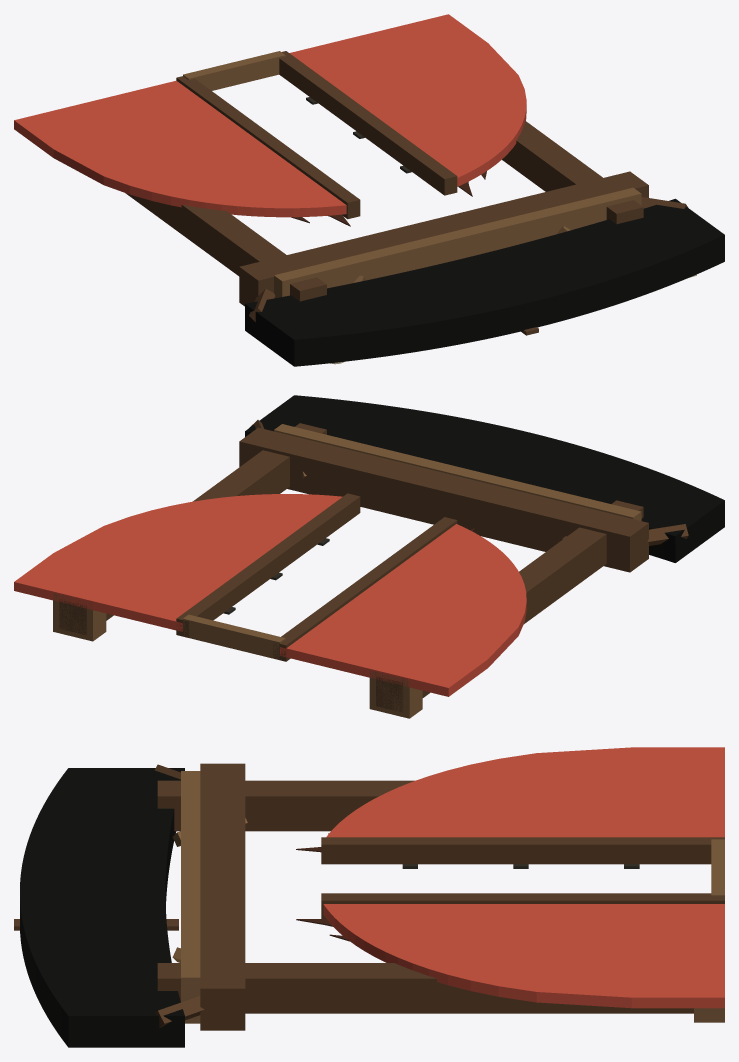
File: sunrise_tavern_arch_and_doors_cm.obj
3 views of the same model, one above another, from view 1: azimuth 30°, elevation 25°; view 2: azimuth 150°, elevation 25°; view 3: azimuth 270°, elevation 25° (orthographic). The views are drawn at different scales.
Parts seen in each view (by area): view 1: Sunrise_Tavern_Arch_and_Sun_Doors; view 2: Sunrise_Tavern_Arch_and_Sun_Doors; view 3: Sunrise_Tavern_Arch_and_Sun_Doors.
Part boxes in pixels (x1,y1,x2,y2): Sunrise_Tavern_Arch_and_Sun_Doors: (14,14,724,366); Sunrise_Tavern_Arch_and_Sun_Doors: (14,395,724,718); Sunrise_Tavern_Arch_and_Sun_Doors: (14,747,724,1047).
Size of the model in its own units: 308 by 34.5 by 366.
